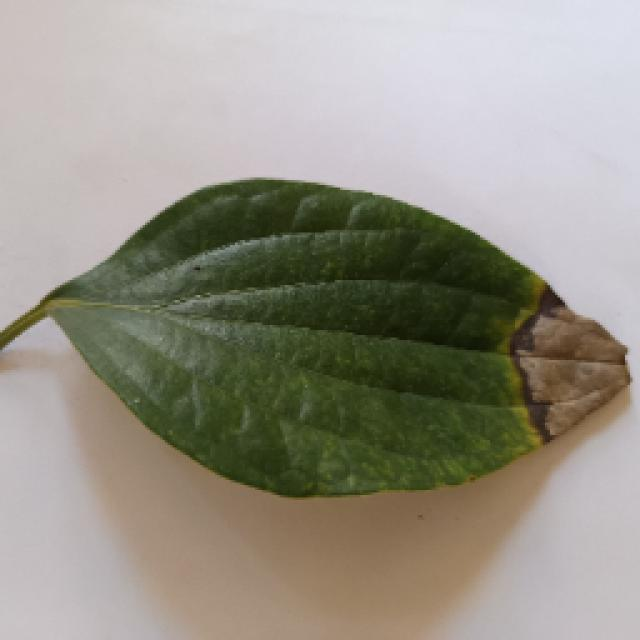footrot: (0, 180, 622, 487)
